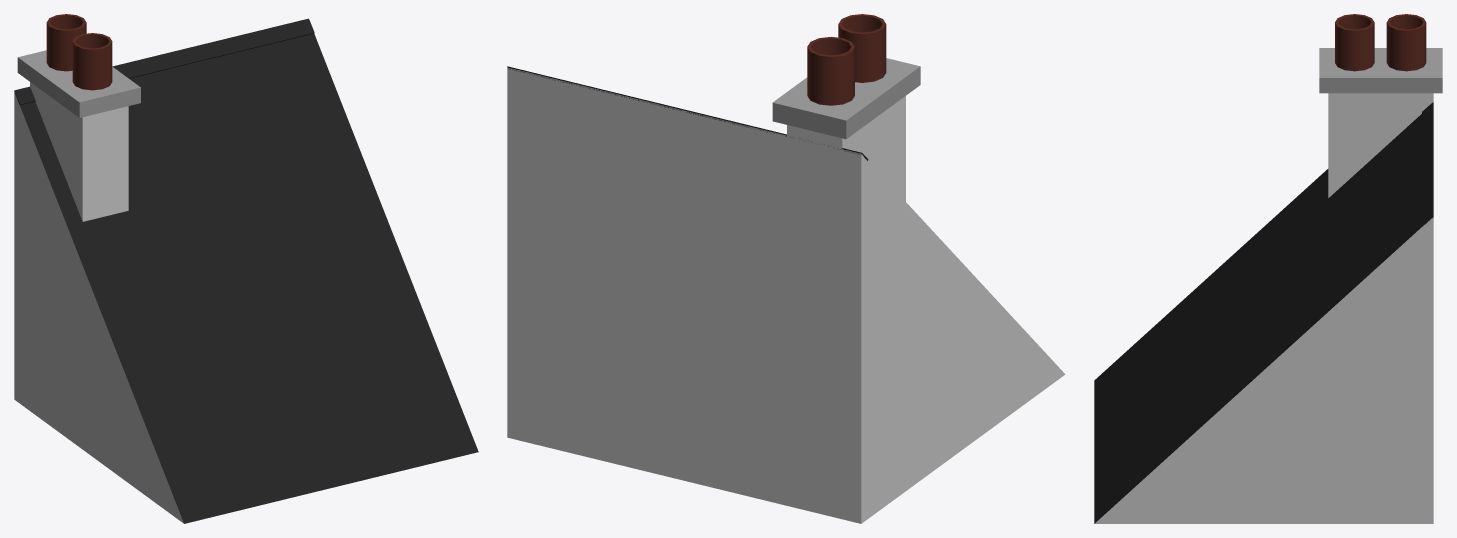
File: roof_04.fbx
The picture shows the model from 3 angles, left to right: view 1: azimuth 30°, elevation 25°; view 2: azimuth 150°, elevation 25°; view 3: azimuth 270°, elevation 25°; orthographic projection. The views are drawn at different scales.
Visible parts, largest first — view 1: Roof_04; view 2: Roof_04; view 3: Roof_04.
Part boxes in pixels (left/top/right/bottom): Roof_04: left=14, top=14, right=478, bottom=523; Roof_04: left=507, top=14, right=1065, bottom=523; Roof_04: left=1094, top=14, right=1442, bottom=523.
Bounding box in the file's own units: 200 × 245 × 205.
